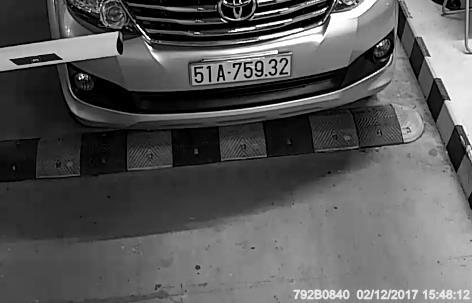License-plate: (179, 45, 301, 98)
